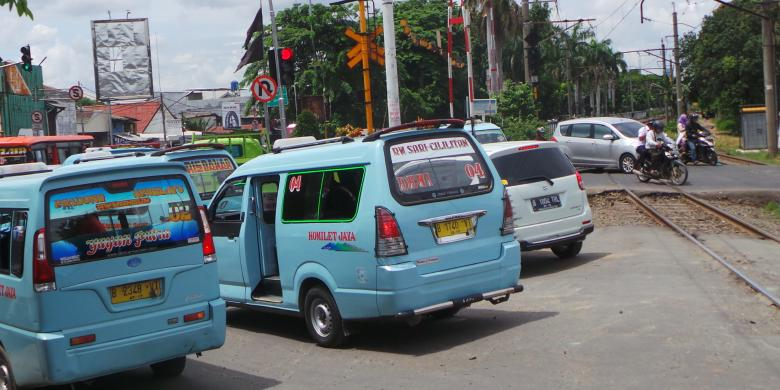plate: (110, 278, 163, 302), (435, 214, 473, 240), (533, 191, 560, 213)
